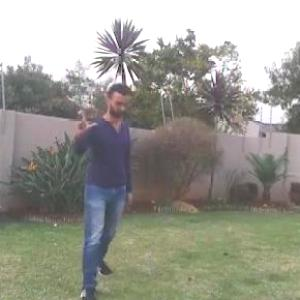land_hand: (72, 104, 102, 134)
